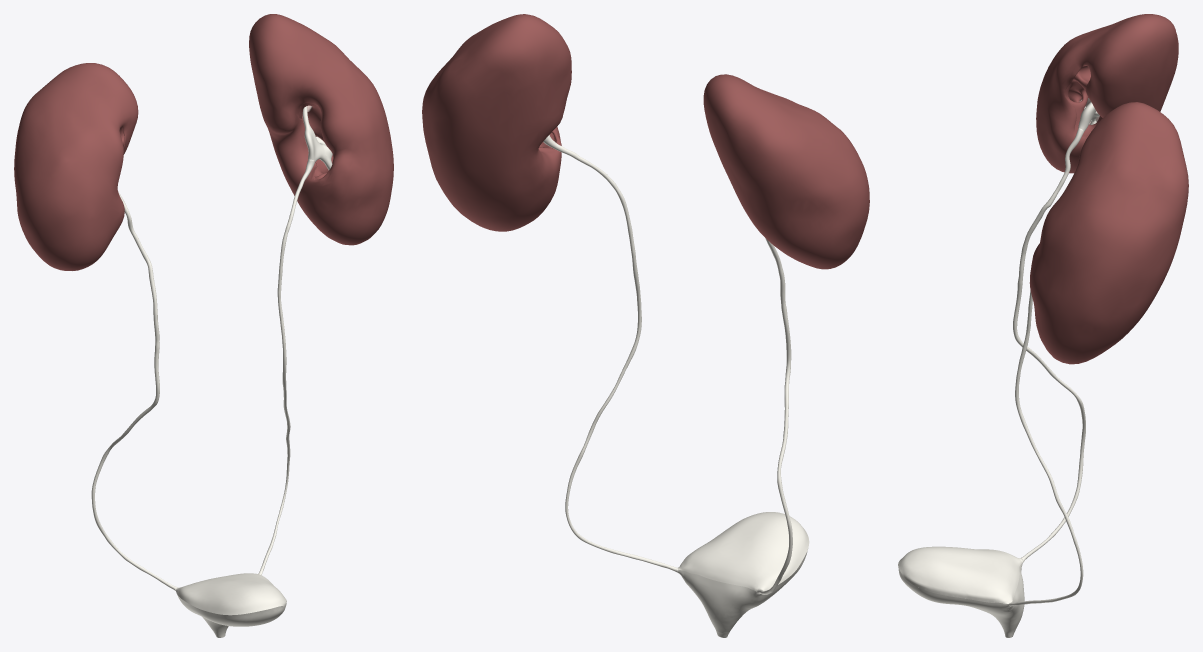
Rendered from female-urinary.glb.
The picture shows the model from 3 angles, left to right: view 1: azimuth 30°, elevation 25°; view 2: azimuth 150°, elevation 25°; view 3: azimuth 270°, elevation 25°; orthographic projection. The views are drawn at different scales.
Visible parts, largest first — view 1: VH_F_kidney_capsule_L, VH_F_kidney_capsule_R, VH_F_fundus_of_urinary_bladder_dome, VH_F_right_ureter, VH_F_left_ureter, VH_F_fundus_of_urinary_bladder_base, VH_F_hilum_of_kidney_L, VH_F_renal_pelvis_L; view 2: VH_F_kidney_capsule_L, VH_F_kidney_capsule_R, VH_F_fundus_of_urinary_bladder_dome, VH_F_fundus_of_urinary_bladder_base, VH_F_left_ureter, VH_F_right_ureter; view 3: VH_F_kidney_capsule_L, VH_F_kidney_capsule_R, VH_F_fundus_of_urinary_bladder_dome, VH_F_right_ureter, VH_F_fundus_of_urinary_bladder_base, VH_F_left_ureter, VH_F_hilum_of_kidney_R.
Part boxes in pixels (<box>): VH_F_kidney_capsule_L: <box>249,14,393,245</box>; VH_F_kidney_capsule_R: <box>14,63,138,270</box>; VH_F_fundus_of_urinary_bladder_dome: <box>176,573,286,615</box>; VH_F_right_ureter: <box>91,192,177,590</box>; VH_F_left_ureter: <box>258,159,314,575</box>; VH_F_fundus_of_urinary_bladder_base: <box>177,594,285,633</box>; VH_F_hilum_of_kidney_L: <box>299,103,333,179</box>; VH_F_renal_pelvis_L: <box>303,115,324,162</box>; VH_F_kidney_capsule_L: <box>422,14,571,231</box>; VH_F_kidney_capsule_R: <box>703,74,869,269</box>; VH_F_fundus_of_urinary_bladder_dome: <box>678,512,809,591</box>; VH_F_fundus_of_urinary_bladder_base: <box>678,551,807,633</box>; VH_F_left_ureter: <box>543,135,678,572</box>; VH_F_right_ureter: <box>757,238,792,594</box>; VH_F_kidney_capsule_L: <box>1029,102,1188,364</box>; VH_F_kidney_capsule_R: <box>1036,14,1178,173</box>; VH_F_fundus_of_urinary_bladder_dome: <box>898,546,1023,603</box>; VH_F_right_ureter: <box>1013,128,1085,562</box>; VH_F_fundus_of_urinary_bladder_base: <box>898,562,1024,632</box>; VH_F_left_ureter: <box>1008,290,1083,606</box>; VH_F_hilum_of_kidney_R: <box>1065,65,1101,136</box>.
Bounding box in the file's own units: 0.2219 × 0.3186 × 0.1418.
